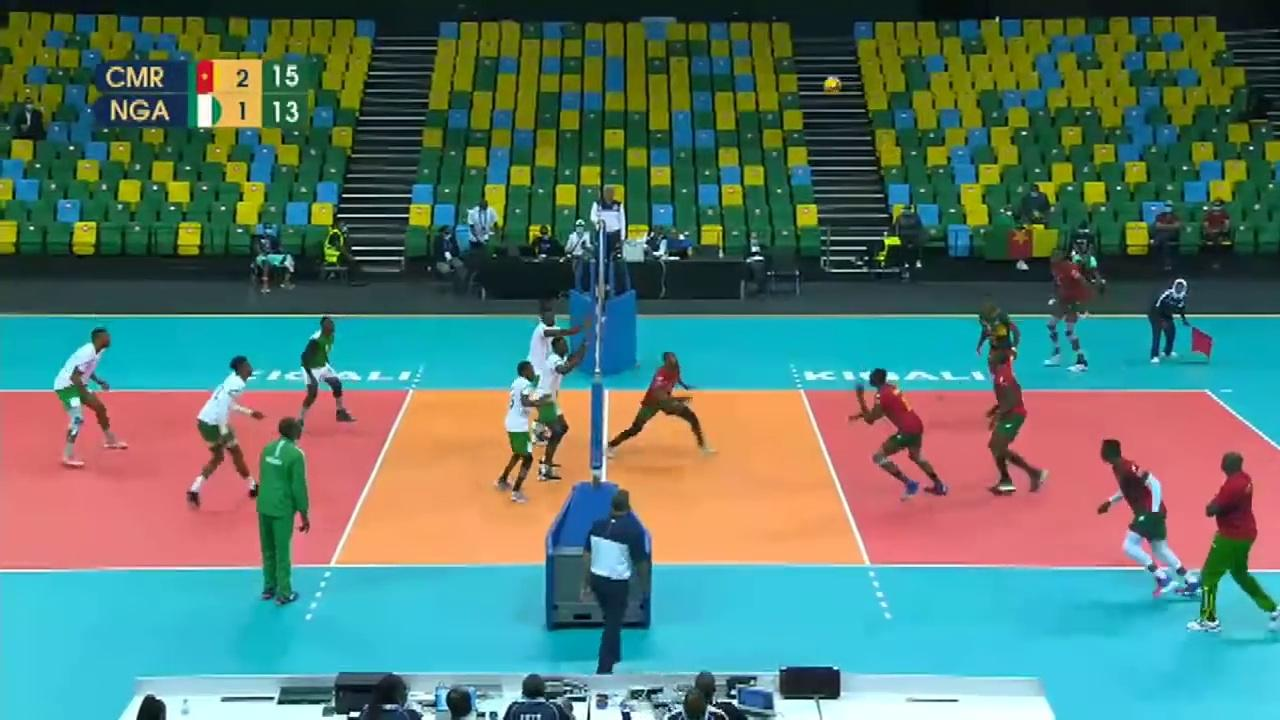player: (1098, 443, 1195, 597), (188, 351, 267, 514), (853, 373, 950, 498), (608, 354, 714, 461), (56, 324, 129, 469), (988, 347, 1046, 495), (498, 348, 539, 502), (970, 293, 1026, 404), (1048, 249, 1099, 369), (298, 317, 356, 420), (535, 336, 575, 484), (530, 303, 570, 445)
refree: (576, 479, 649, 668), (1151, 275, 1203, 364), (590, 183, 627, 286)
